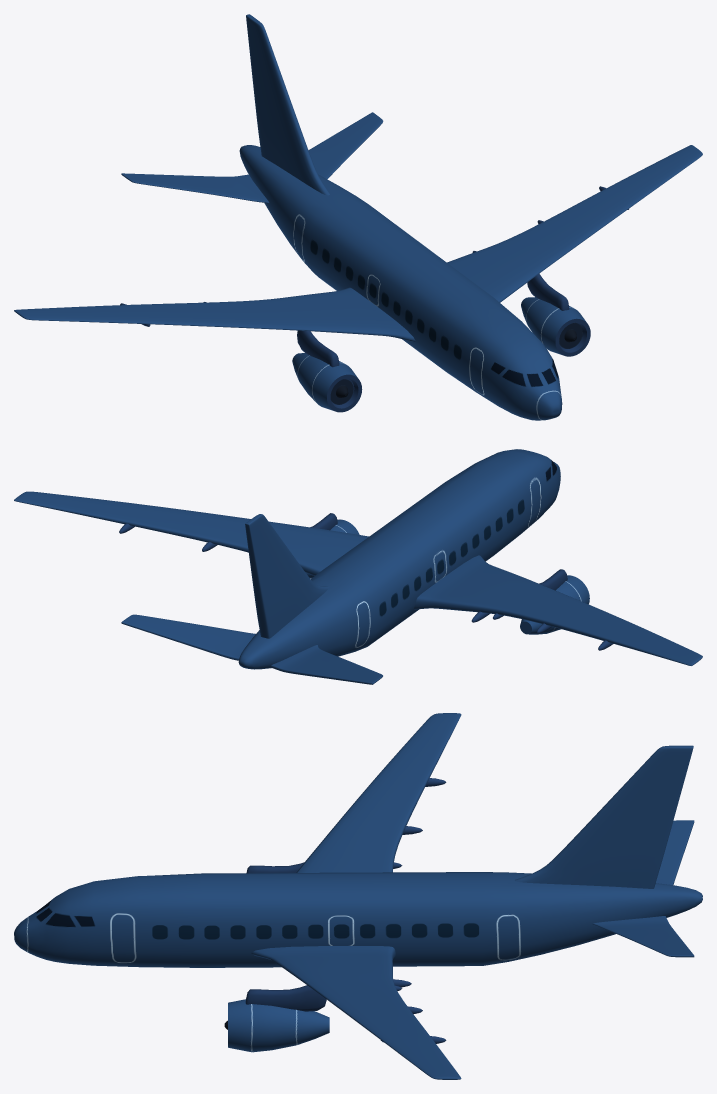
File: blueplane.glb
3 renders of one model, top to bottom at view 1: azimuth 30°, elevation 25°; view 2: azimuth 150°, elevation 25°; view 3: azimuth 270°, elevation 25°, orthographic. The views are drawn at different scales.
Visible parts, largest first — view 1: airbus318, wings, wing-back-vertical, turbine, wings-back-horizontal, turbine-pad; view 2: airbus318, wings, wing-back-vertical, wings-back-horizontal, turbine, turbine-pad; view 3: airbus318, wings, wing-back-vertical, turbine, wings-back-horizontal, turbine-pad.
Part boxes in pixels (x1=…): airbus318: x1=239, y1=145, x2=562, y2=420; wings: x1=14, y1=145, x2=702, y2=341; wing-back-vertical: x1=246, y1=14, x2=329, y2=195; turbine: x1=292, y1=297, x2=590, y2=412; wings-back-horizontal: x1=121, y1=112, x2=383, y2=203; turbine-pad: x1=297, y1=273, x2=569, y2=367; airbus318: x1=238, y1=449, x2=560, y2=669; wings: x1=14, y1=491, x2=702, y2=665; wing-back-vertical: x1=245, y1=514, x2=329, y2=638; wings-back-horizontal: x1=121, y1=614, x2=382, y2=684; turbine: x1=306, y1=519, x2=589, y2=634; turbine-pad: x1=310, y1=513, x2=567, y2=590; airbus318: x1=14, y1=872, x2=702, y2=967; wings: x1=251, y1=713, x2=461, y2=1079; wing-back-vertical: x1=515, y1=745, x2=693, y2=888; turbine: x1=224, y1=999, x2=329, y2=1052; wings-back-horizontal: x1=592, y1=820, x2=694, y2=957; turbine-pad: x1=245, y1=862, x2=326, y2=1011.
Bounding box in the file's own units: 4.66 × 1.44 × 3.71.
Materials: 1 (1 with a texture image).
